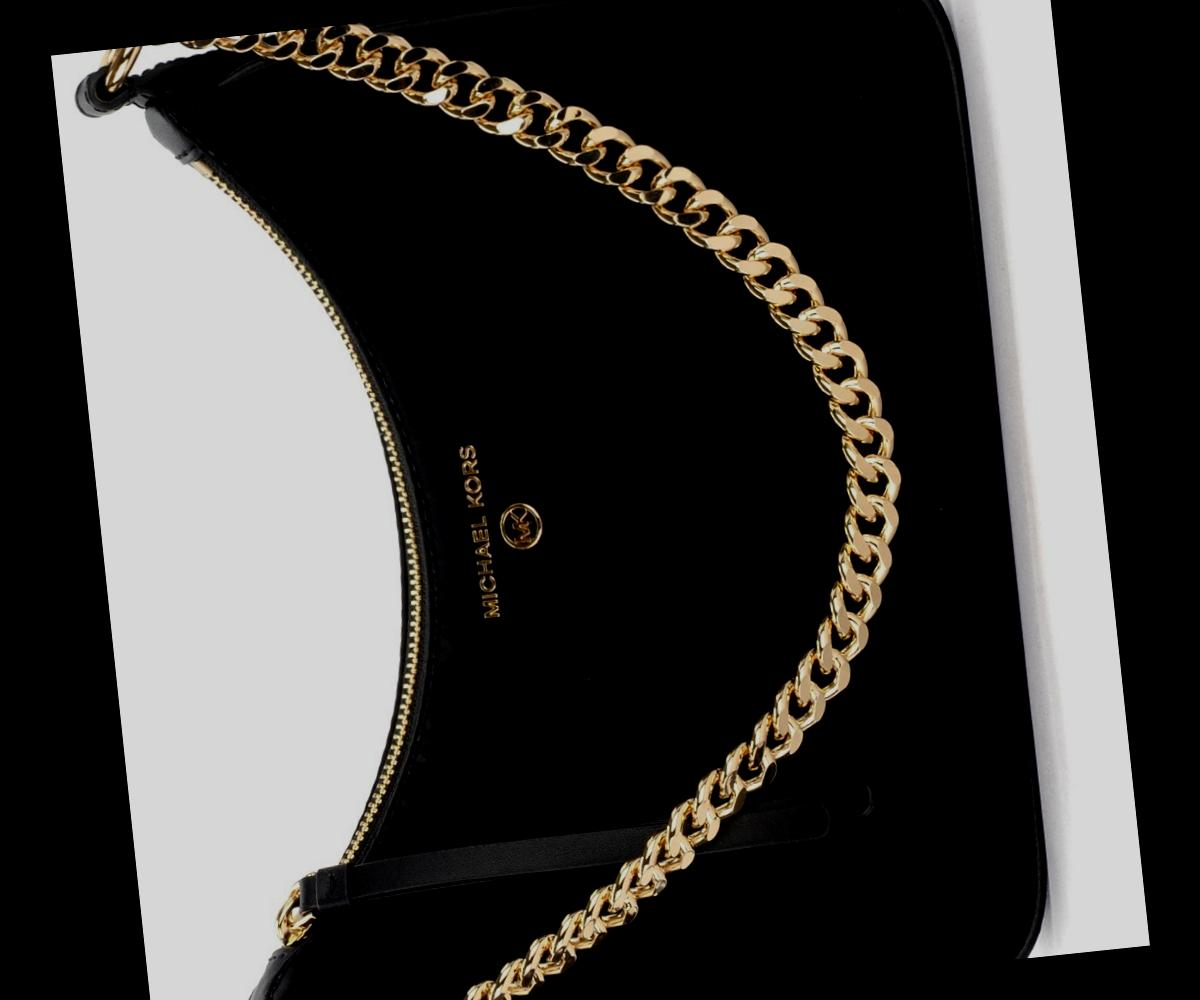MICHAEL-KORS: (456, 442, 500, 618)
